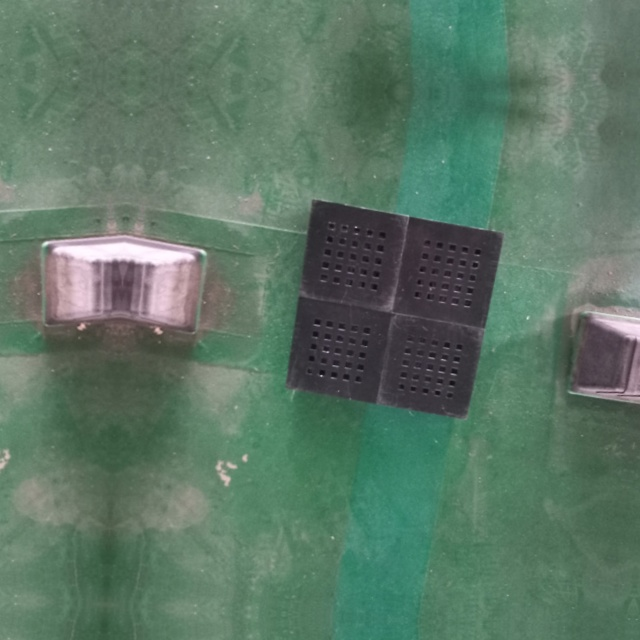pallet: (278, 192, 510, 426)
